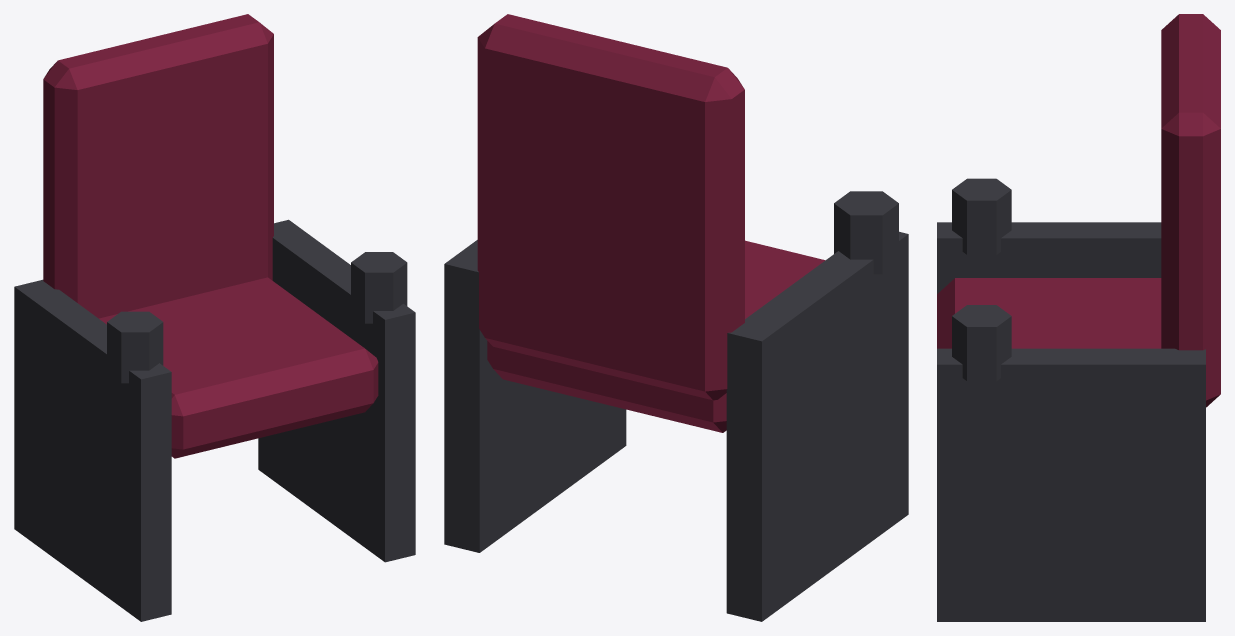
Rendered from TheaterSeat.fbx.
3 views of the same model, side by side, from view 1: azimuth 30°, elevation 25°; view 2: azimuth 150°, elevation 25°; view 3: azimuth 270°, elevation 25° (orthographic). The views are drawn at different scales.
Visible parts, largest first — view 1: TheaterSeat; view 2: TheaterSeat; view 3: TheaterSeat.
Part boxes in pixels (x1,y1,x2,y2): TheaterSeat: [14, 14, 415, 621]; TheaterSeat: [444, 14, 908, 621]; TheaterSeat: [937, 14, 1220, 621].
Size of the model in its own units: 2.35 by 3.6 by 1.9.
Materials: 1 (1 with a texture image).
